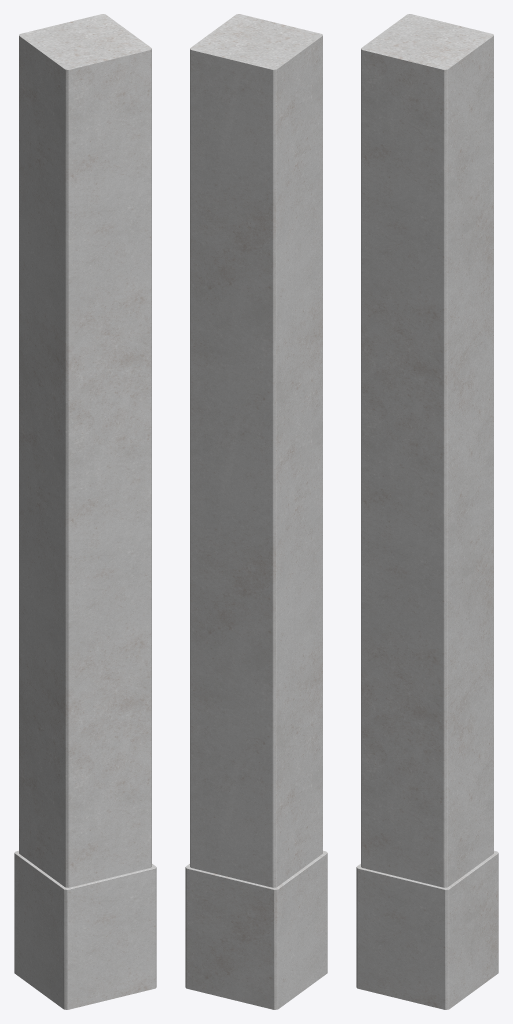
File: SM_PattenPillar01B.fbx
3 views of the same model, side by side, from view 1: azimuth 30°, elevation 25°; view 2: azimuth 150°, elevation 25°; view 3: azimuth 330°, elevation 25° (orthographic).
Parts seen in each view (by area): view 1: SM_PattenPillar01B; view 2: SM_PattenPillar01B; view 3: SM_PattenPillar01B.
Boxes of the visible parts, x1,y1,x2,y2 form: SM_PattenPillar01B: [14, 14, 156, 1009]; SM_PattenPillar01B: [185, 14, 327, 1009]; SM_PattenPillar01B: [356, 14, 498, 1009].
Size of the model in its own units: 31.52 by 30.86 by 305.
